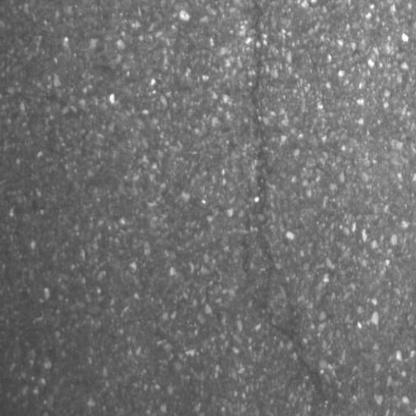Cracks: (248, 33, 365, 415)
